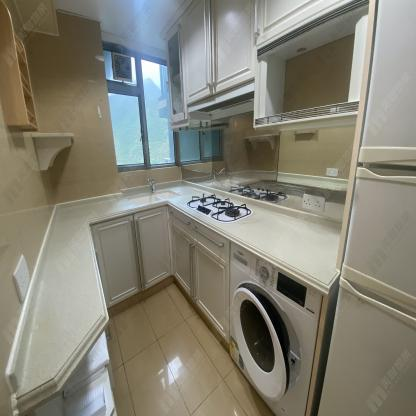Cupboard: (90, 204, 173, 309), (181, 0, 255, 107), (163, 14, 189, 129)
Exhaust Fan: (111, 52, 133, 82)
Faucet: (147, 176, 157, 192)
Sink: (123, 188, 187, 209)
Stove: (174, 191, 259, 236)
Washing Machine: (229, 240, 323, 416)
